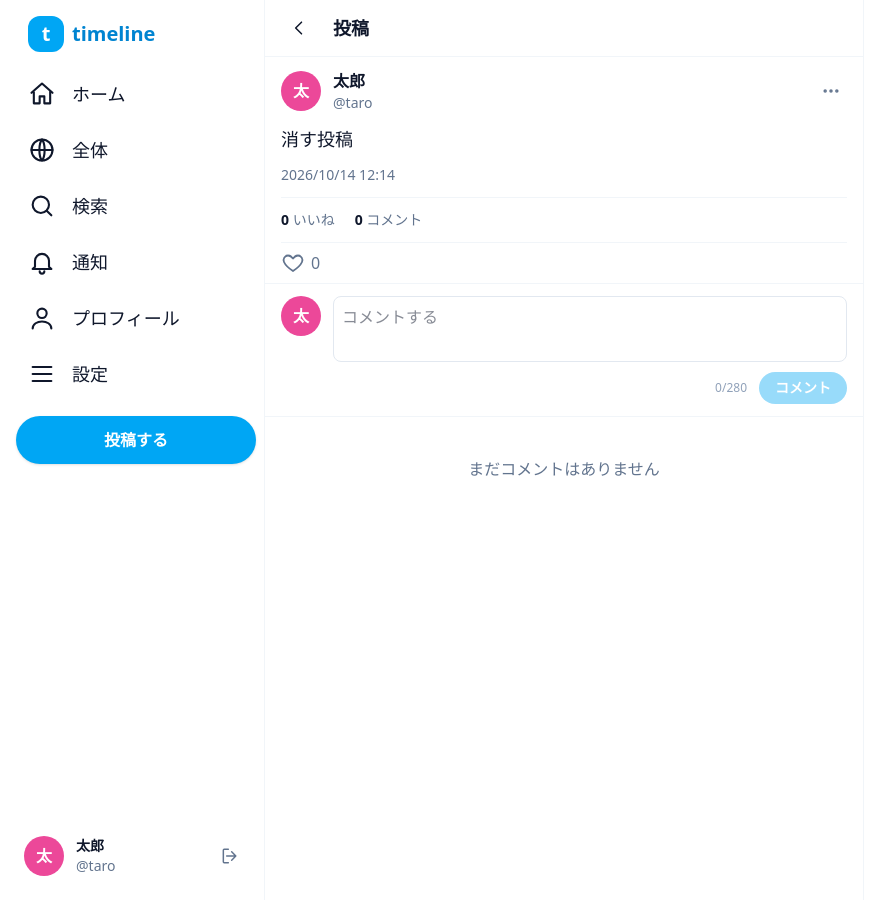
Test: 投稿詳細 › 自分の投稿を削除するとホームへ移る
Click the button named "投稿のメニュー": x=831, y=91 x1=815 y1=75 x2=847 y2=107
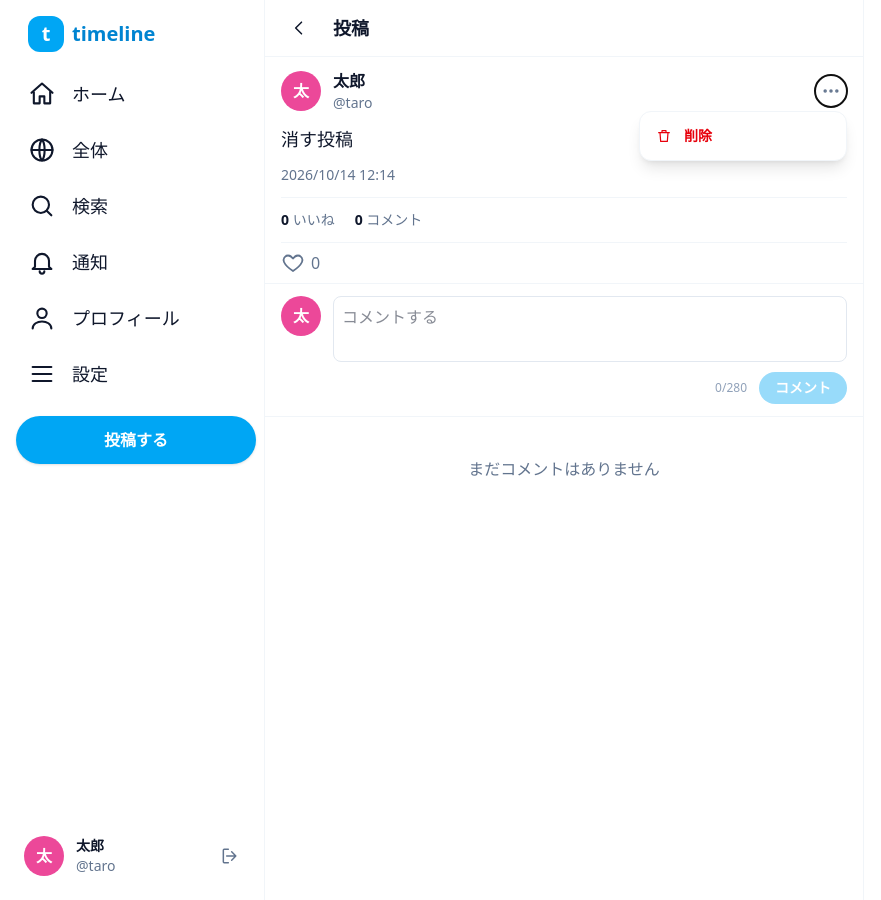
Click the button "削除": x=743, y=136 x1=640 y1=116 x2=846 y2=156
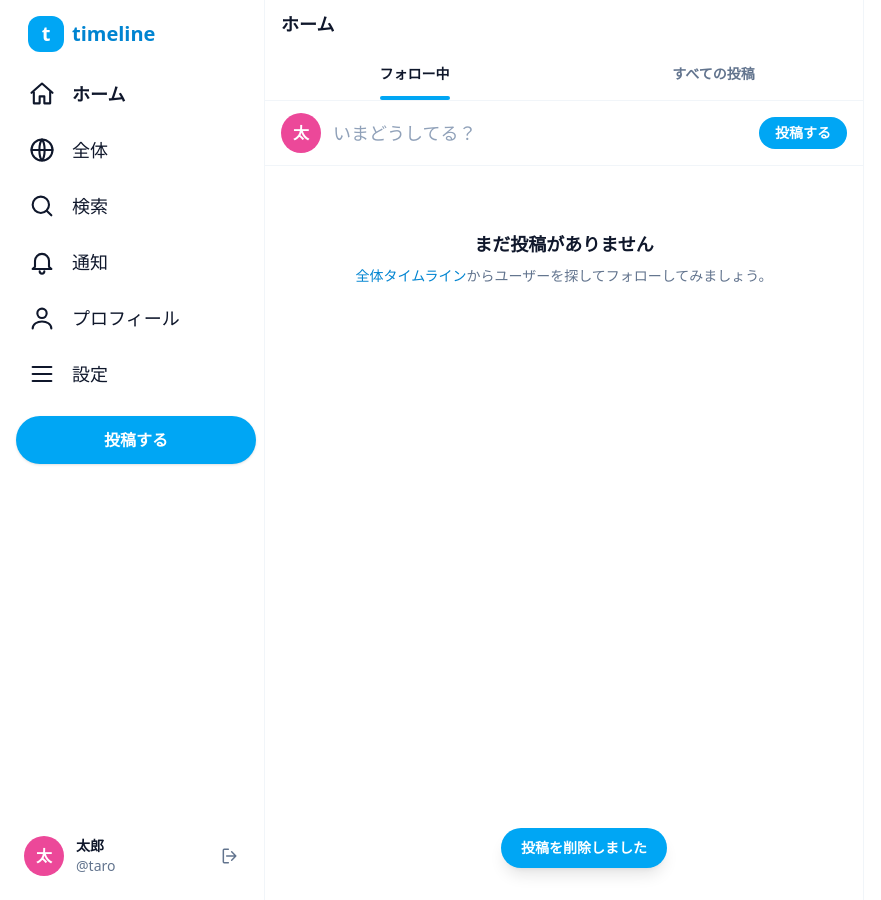
Expected: the heading "ホーム" is shown, x1=281 y1=10 x2=334 y2=38
Expected: the text "投稿を削除しました" is shown, x1=501 y1=828 x2=667 y2=868
